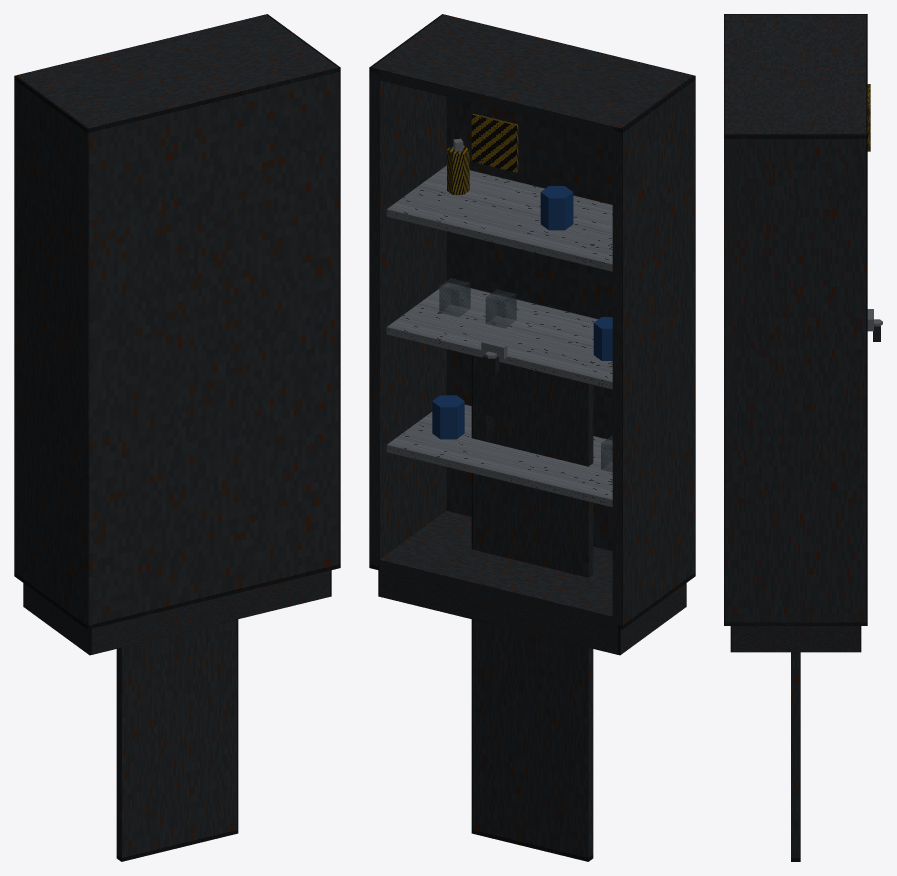
Rendered from chemical_cabinet_industrial_hazard.glb.
The picture shows the model from 3 angles, left to right: view 1: azimuth 30°, elevation 25°; view 2: azimuth 150°, elevation 25°; view 3: azimuth 270°, elevation 25°; orthographic projection.
Visible parts, largest first — view 1: chemical_cabinet_industrial_hazard; view 2: chemical_cabinet_industrial_hazard; view 3: chemical_cabinet_industrial_hazard.
Boxes of the visible parts, x1,y1,x2,y2 form: chemical_cabinet_industrial_hazard: (14,14,340,861); chemical_cabinet_industrial_hazard: (369,14,695,861); chemical_cabinet_industrial_hazard: (724,14,882,861).
Size of the model in its own units: 0.9 by 2.63 by 0.498.
7 materials, 7 textured.
